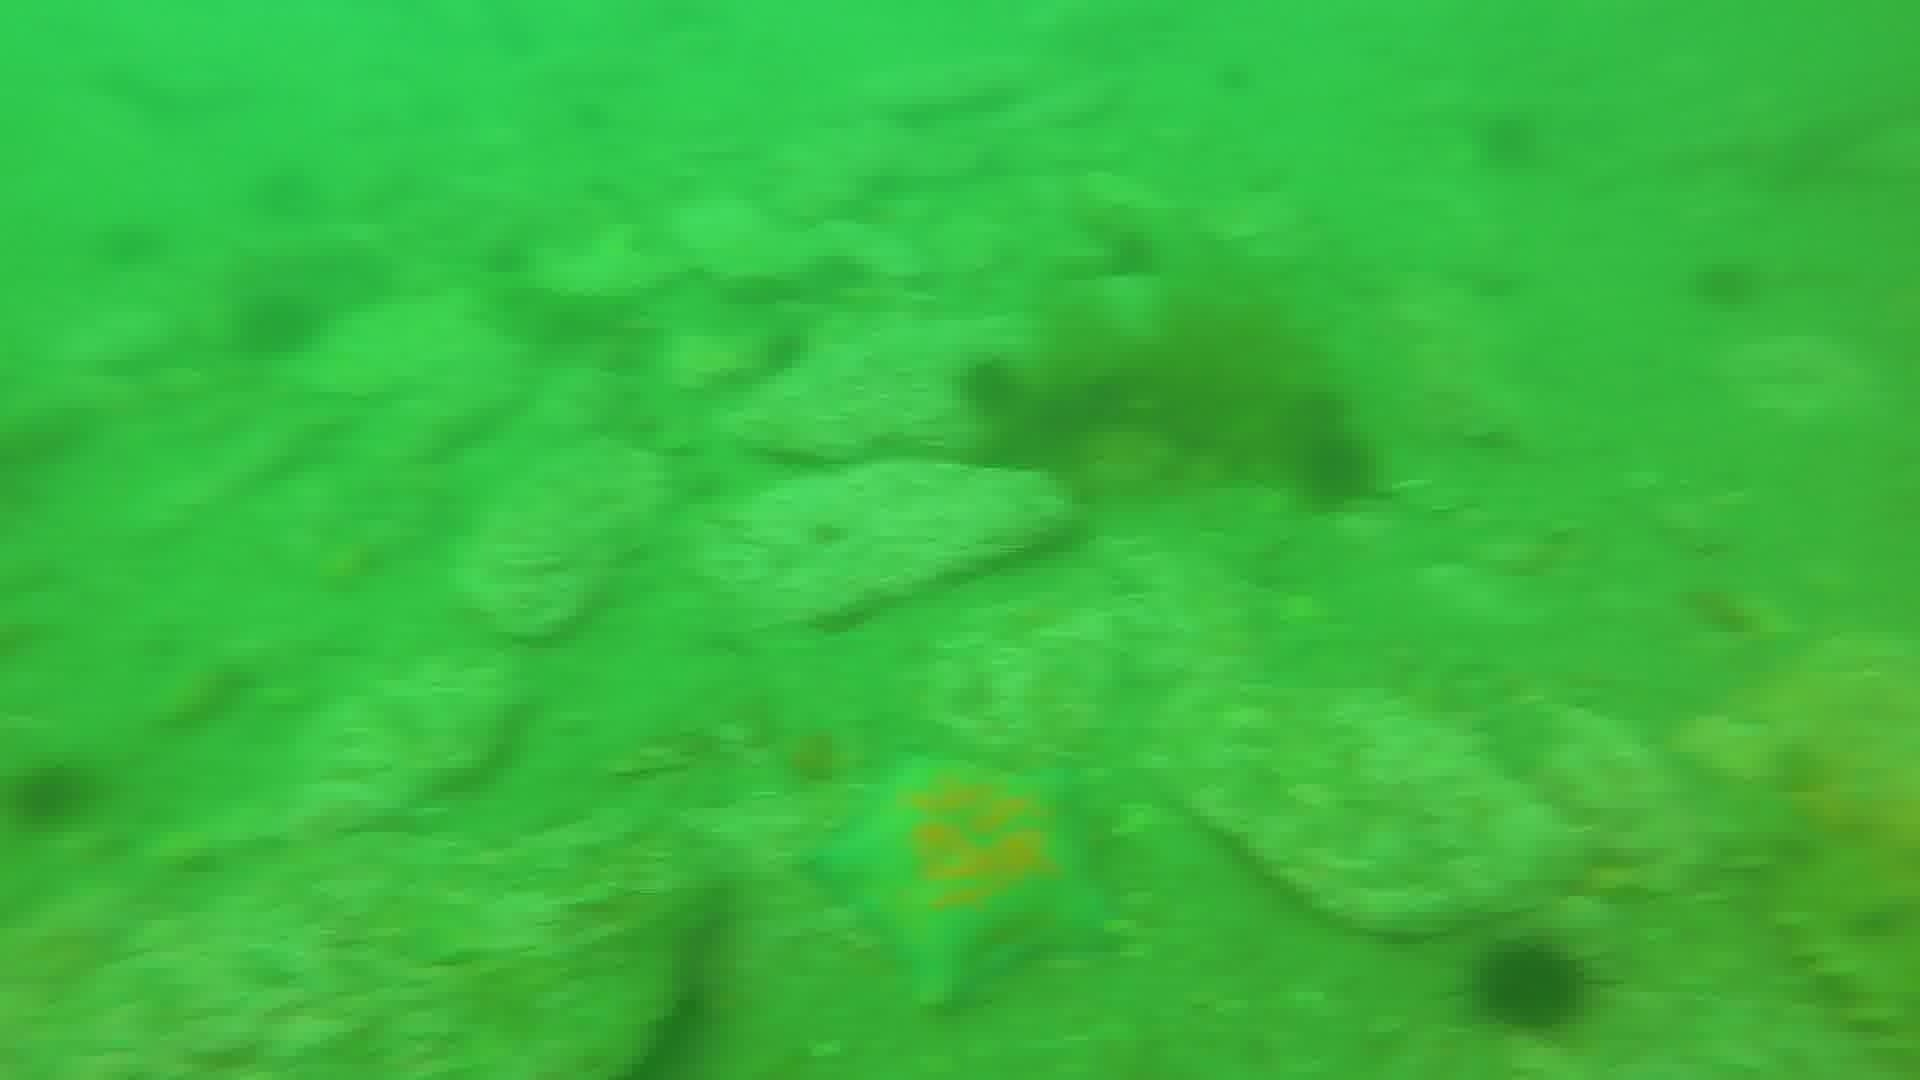echinus: (1466, 935, 1594, 1040), (1287, 425, 1381, 516), (7, 754, 100, 837), (231, 286, 327, 365), (951, 349, 1030, 425), (1470, 104, 1547, 175), (1687, 251, 1766, 316)
holothurian: (1738, 742, 1920, 1068)
starfish: (803, 753, 1125, 1014)
